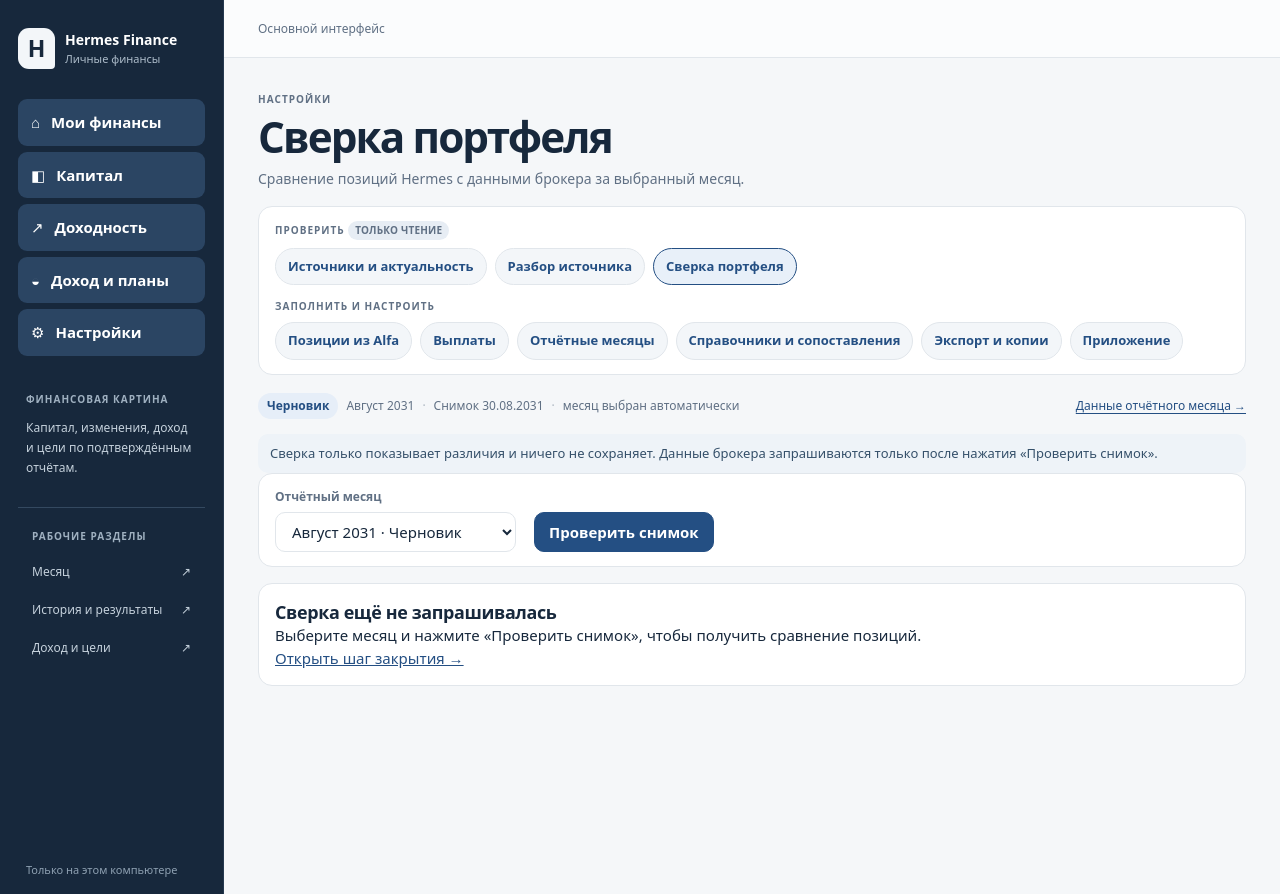
Test case: UI v2 Data reconciliation › shows the safety gate instead of a pretty comparison when unavailable
Click the button "Проверить снимок" at (624,532), box top-left (534, 512), bottom-right (714, 552)
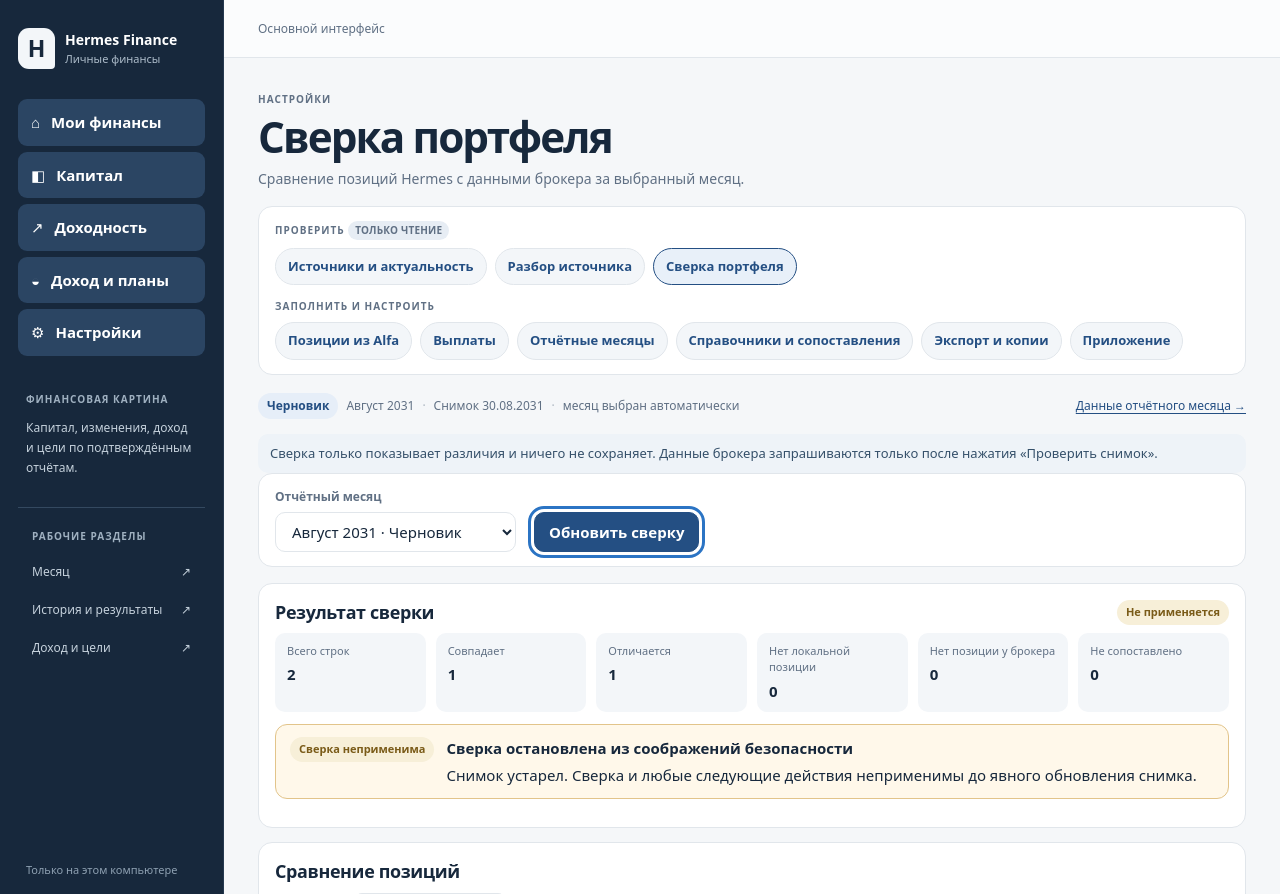
Expected: the message with test id "reconciliation-gate" shows "Сверка остановлена из соображений безопасности", top-left (446, 738), bottom-right (853, 758)
